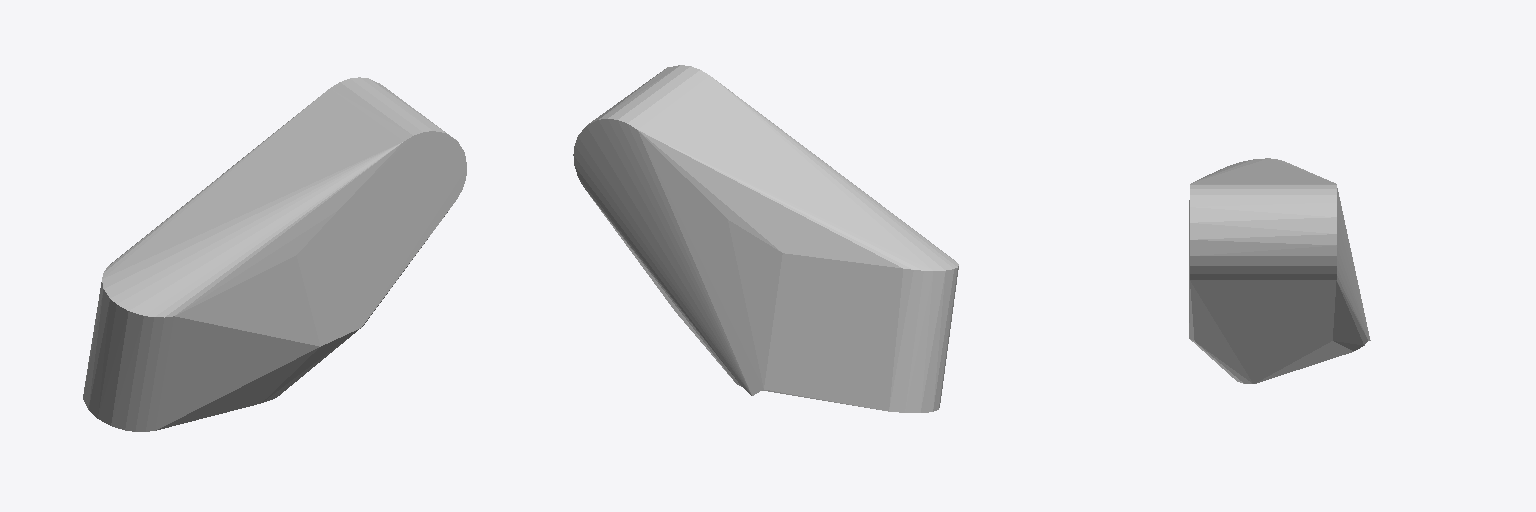
File: thumb-F1.obj
3 views of the same model, side by side, from view 1: azimuth 30°, elevation 25°; view 2: azimuth 150°, elevation 25°; view 3: azimuth 270°, elevation 25° (orthographic).
Parts seen in each view (by area): view 1: off; view 2: off; view 3: off.
Boxes of the visible parts, <box> form: off: <box>83,77,466,431</box>; off: <box>573,65,958,412</box>; off: <box>1189,158,1370,383</box>.
Size of the model in its own units: 0.0377 by 0.0275 by 0.0178.